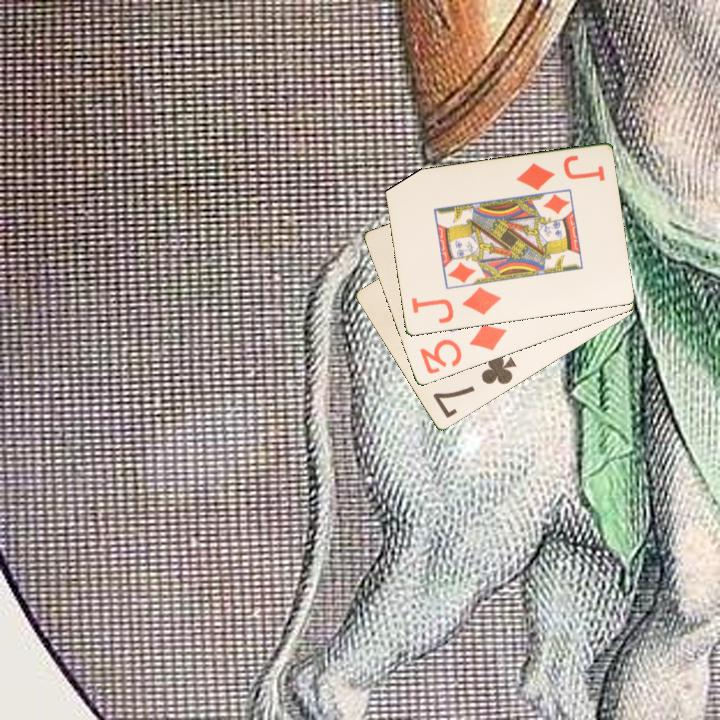3d: (416, 320, 510, 377)
7c: (429, 351, 520, 422)
Jd: (407, 284, 504, 327), (512, 152, 608, 194)
